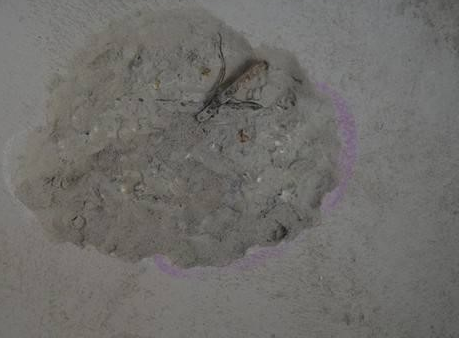Exposed reinforcement: (195, 61, 268, 123)
Spalling: (1, 1, 343, 269)
